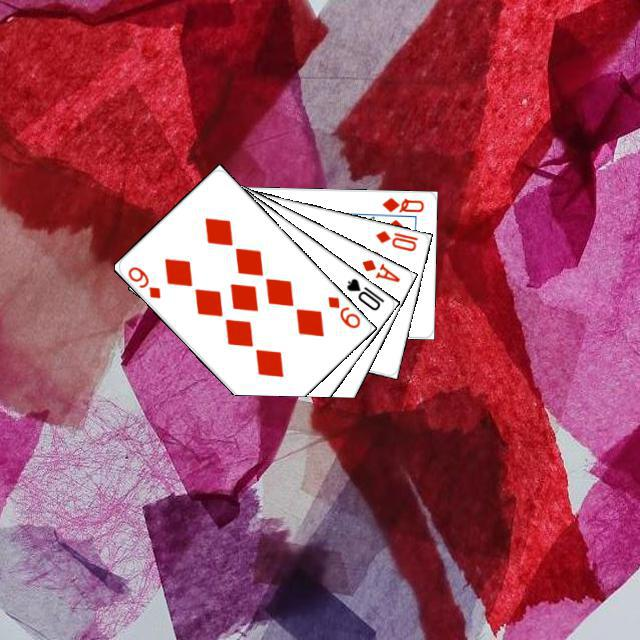10d: (371, 225, 420, 253)
10s: (341, 273, 386, 312)
9d: (322, 291, 362, 330), (123, 261, 163, 300)
Ad: (357, 254, 402, 284)
Qd: (377, 193, 425, 214)
